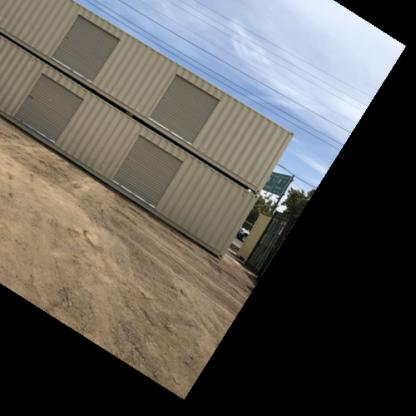Damage: (86, 156, 114, 176), (24, 85, 38, 101)
